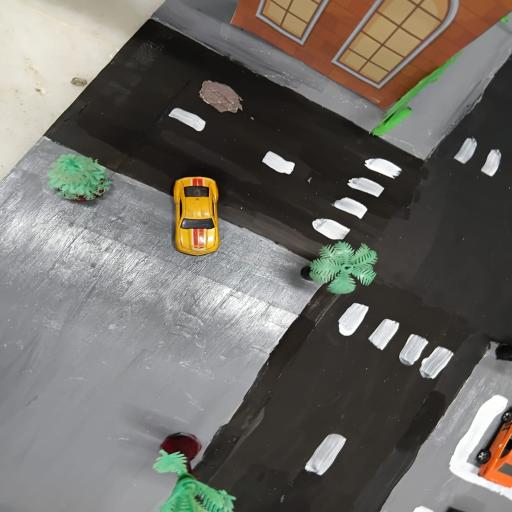car crash: (170, 168, 226, 264)
porthole: (198, 79, 248, 122)
